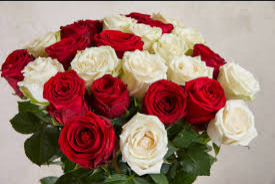RedRose: (53, 108, 120, 168), (41, 68, 93, 118), (183, 71, 227, 129), (88, 73, 137, 119), (141, 77, 186, 126)
